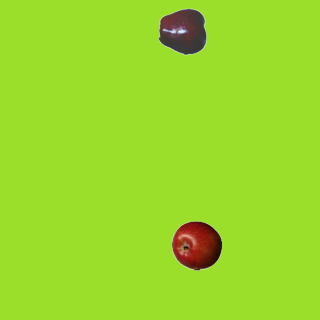Apple Braeburn: (171, 220, 221, 270)
Apple Red Delicious: (158, 6, 208, 56)
